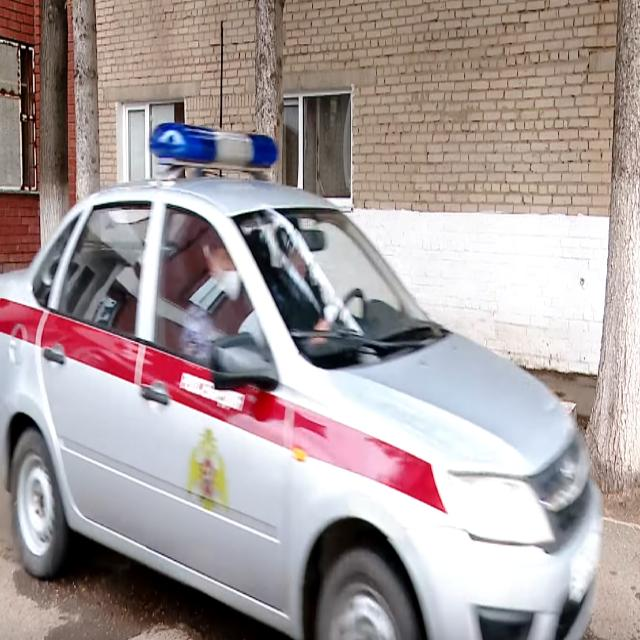police car: (1, 121, 605, 640)
